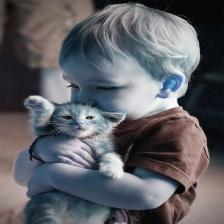kedo: (25, 94, 126, 139)
